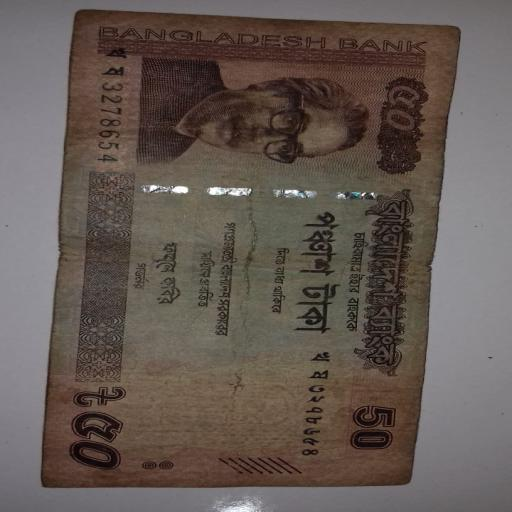50taka: (43, 10, 459, 486)
